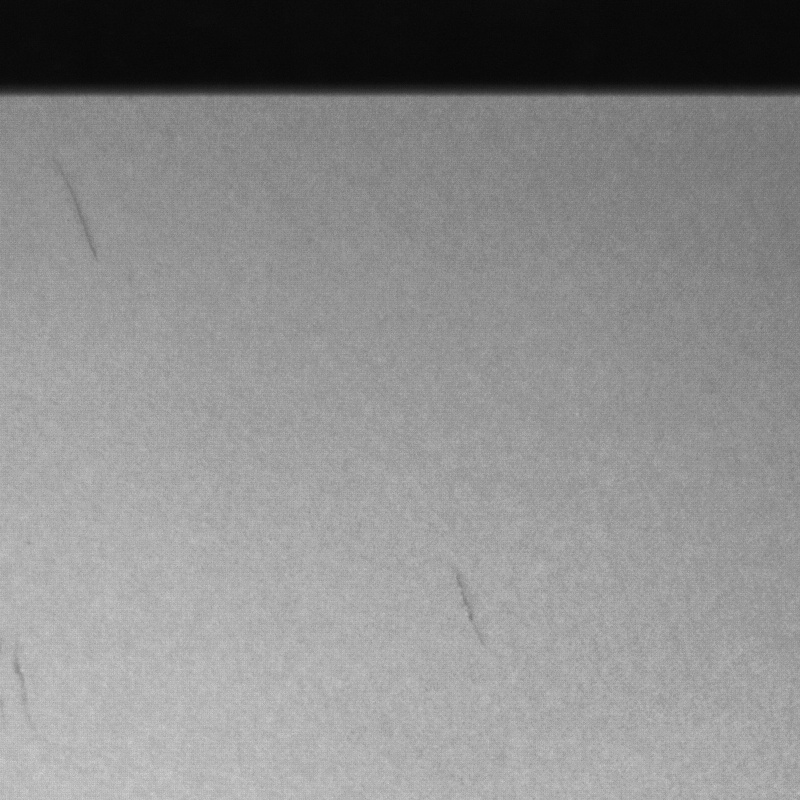defect: (57, 163, 107, 267), (454, 570, 488, 642), (11, 652, 37, 716)
